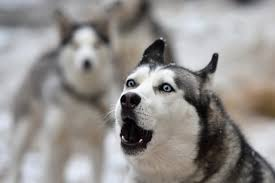Siberian Husky: (105, 39, 269, 181)
